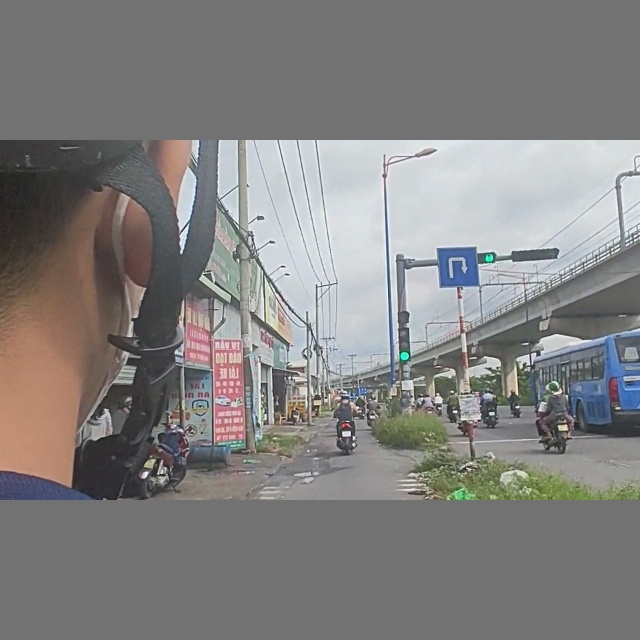I.409: (430, 243, 483, 291)
